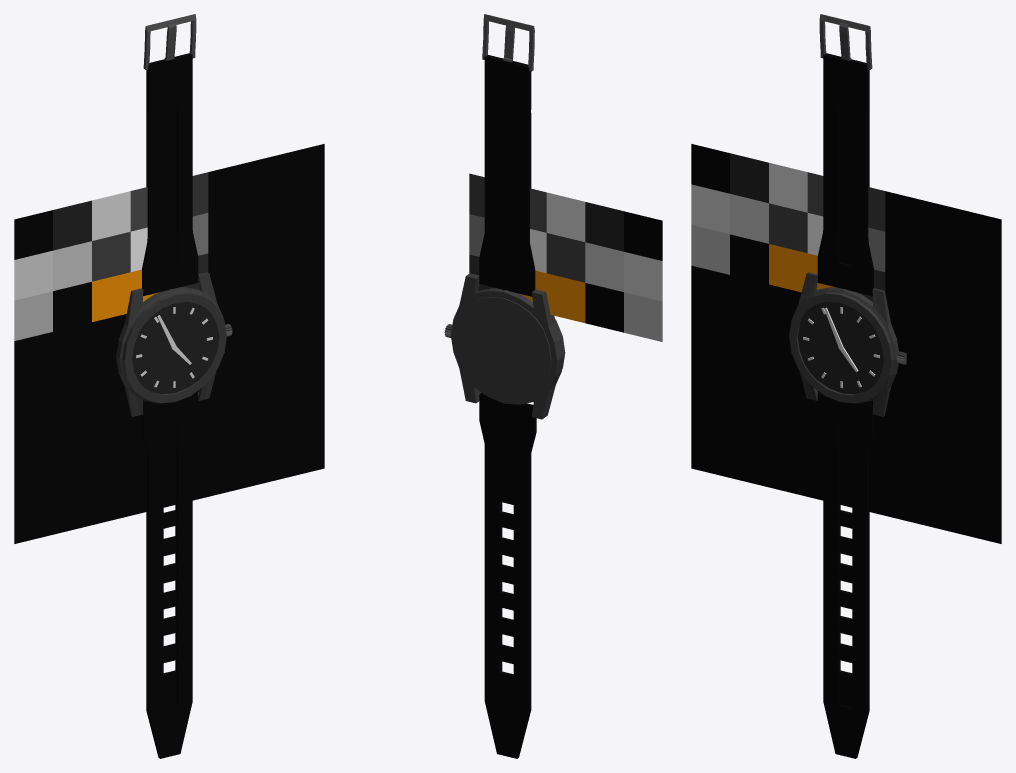
File: watch_multicolor.glb
3 views of the same model, side by side, from view 1: azimuth 30°, elevation 25°; view 2: azimuth 150°, elevation 25°; view 3: azimuth 330°, elevation 25° (orthographic).
Parts seen in each view (by area): view 1: material_holder, strap, face, rim, body, buckle; view 2: strap, material_holder, body, buckle; view 3: material_holder, strap, face, rim, body, buckle.
Boxes of the visible parts, <box> form: material_holder: <box>14,144,324,543</box>; strap: <box>142,53,198,758</box>; face: <box>132,301,218,394</box>; rim: <box>122,292,226,403</box>; body: <box>116,272,223,416</box>; buckle: <box>143,14,196,69</box>; strap: <box>479,55,536,758</box>; material_holder: <box>469,173,662,341</box>; body: <box>450,273,564,419</box>; buckle: <box>482,14,534,71</box>; material_holder: <box>691,144,1001,543</box>; strap: <box>817,53,873,758</box>; face: <box>797,301,883,394</box>; rim: <box>789,292,893,403</box>; body: <box>792,272,898,416</box>; buckle: <box>819,14,872,69</box>.
Bounding box in the file's own units: 6.03 × 13.67 × 0.3674.
